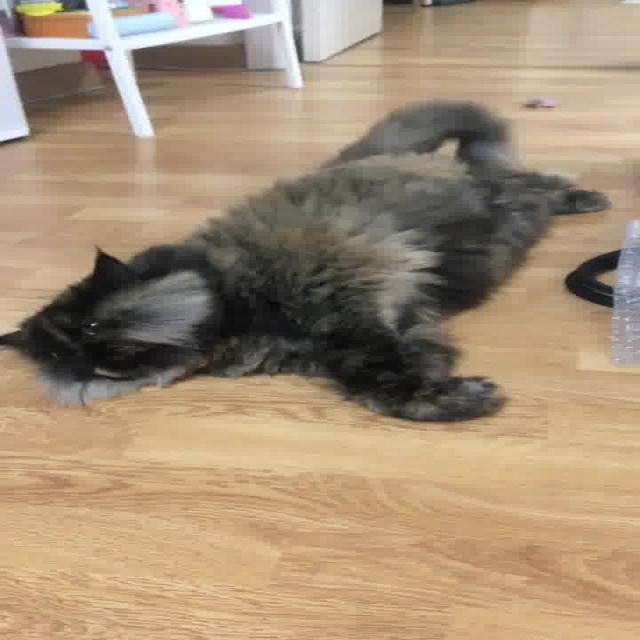cat: (0, 85, 640, 437)
